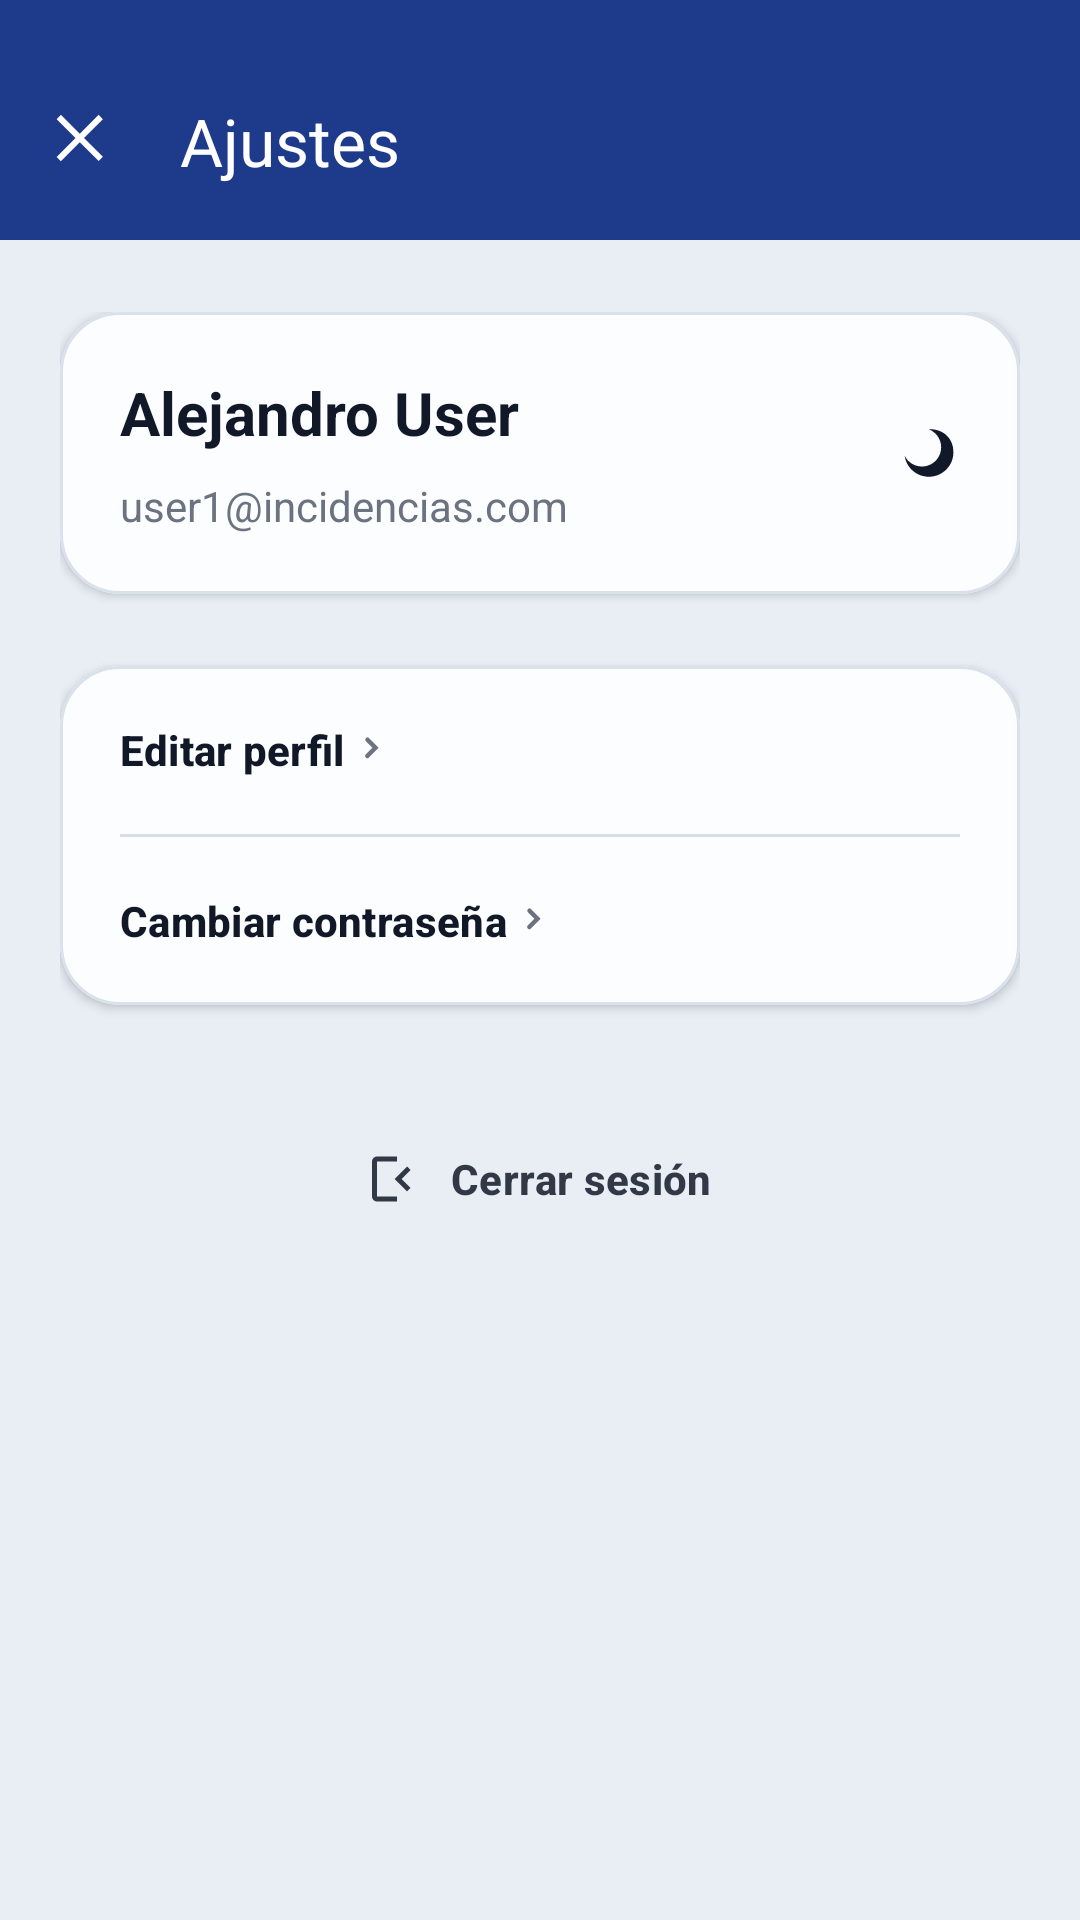

Icon bounding boxes for this 1080*1920 phone screenshot, format (x1, y1, x2, y2):
Cambiar tema: (904, 429, 954, 477)
